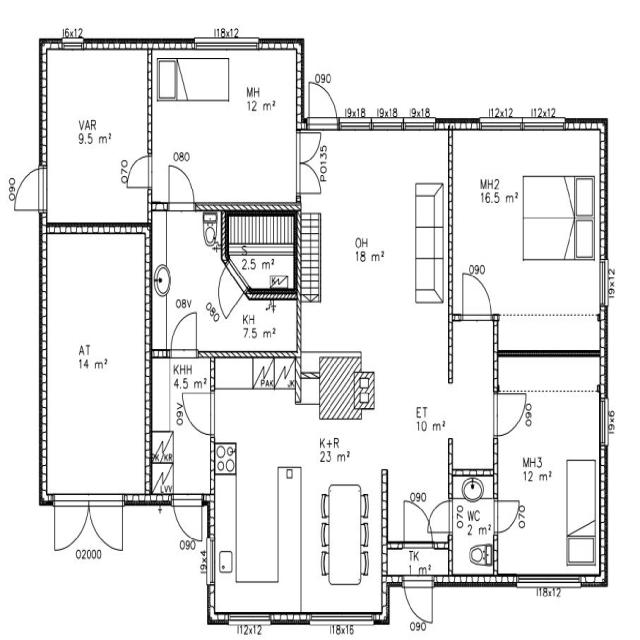door: (56, 82, 152, 210), (450, 322, 502, 476), (450, 473, 497, 580), (392, 494, 452, 546), (451, 266, 501, 326), (180, 387, 219, 441), (10, 163, 48, 218), (304, 77, 341, 132), (491, 389, 531, 439), (170, 491, 205, 548), (400, 576, 436, 627), (298, 129, 324, 199), (163, 160, 198, 212), (168, 306, 202, 358), (119, 151, 155, 192), (493, 494, 525, 538)
window: (336, 111, 439, 137), (474, 110, 567, 138), (303, 610, 376, 635), (189, 32, 259, 58), (512, 571, 584, 594), (596, 251, 616, 327), (594, 384, 616, 452), (225, 611, 275, 637), (472, 115, 532, 135)
zone: (299, 124, 448, 335), (42, 218, 154, 487), (449, 122, 604, 303), (150, 46, 304, 210), (495, 356, 605, 581), (212, 385, 301, 624), (40, 41, 152, 225), (153, 210, 225, 352), (449, 316, 496, 480), (227, 220, 300, 304), (48, 490, 130, 559), (450, 475, 497, 579), (226, 296, 300, 356), (403, 571, 435, 627)
